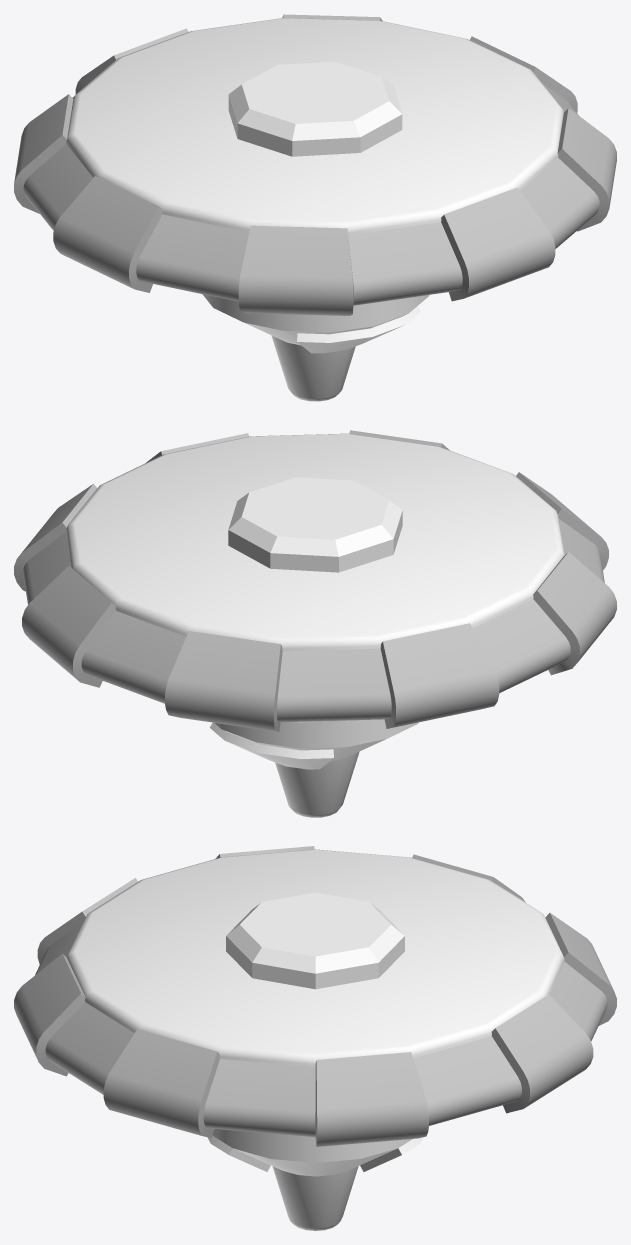
File: c2_tex2.gltf
3 views of the same model, one above another, from view 1: azimuth 30°, elevation 25°; view 2: azimuth 150°, elevation 25°; view 3: azimuth 270°, elevation 25° (orthographic).
Visible parts, largest first — view 1: Circle.001, Circle.004, Circle.002; view 2: Circle.001, Circle.004, Circle.002; view 3: Circle.001, Circle.004, Circle.002.
Boxes of the visible parts, box(x1,y1,x2,y2) form: Circle.001: box(66, 18, 563, 235); Circle.004: box(14, 14, 616, 315); Circle.002: box(202, 61, 429, 401); Circle.001: box(66, 433, 564, 651); Circle.004: box(14, 430, 616, 731); Circle.002: box(209, 477, 418, 817); Circle.001: box(67, 849, 564, 1066); Circle.004: box(14, 846, 616, 1146); Circle.002: box(207, 892, 423, 1230).
Bounding box in the file's own units: 5 × 2.73 × 5.
